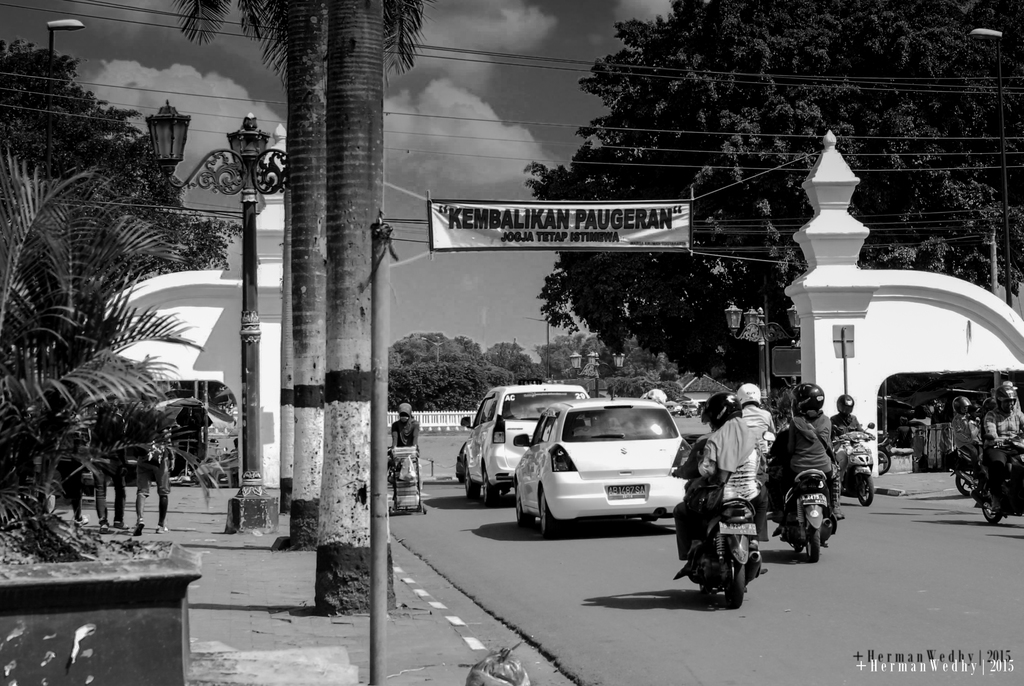Car: (512, 400, 691, 533), (464, 384, 597, 499)
